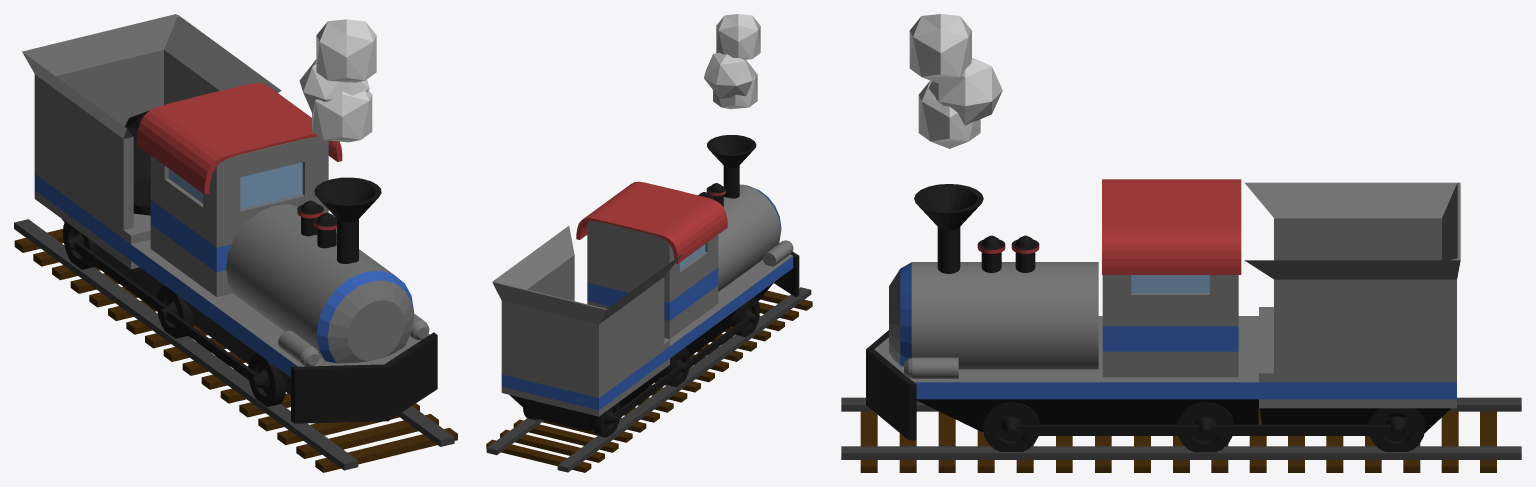
The model's file is steam-train.glb.
The picture shows the model from 3 angles, left to right: view 1: azimuth 30°, elevation 25°; view 2: azimuth 150°, elevation 25°; view 3: azimuth 270°, elevation 25°; orthographic projection. The views are drawn at different scales.
Visible parts, largest first — view 1: GeoSphere002; view 2: GeoSphere002; view 3: GeoSphere002.
Boxes of the visible parts, <box> form: GeoSphere002: <box>14,14,457,472</box>; GeoSphere002: <box>486,14,812,472</box>; GeoSphere002: <box>841,14,1521,472</box>.
Size of the model in its own units: 1.59 by 4 by 5.84.
